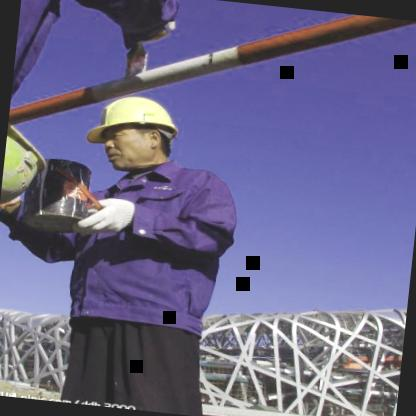helmet: (80, 86, 196, 180)
